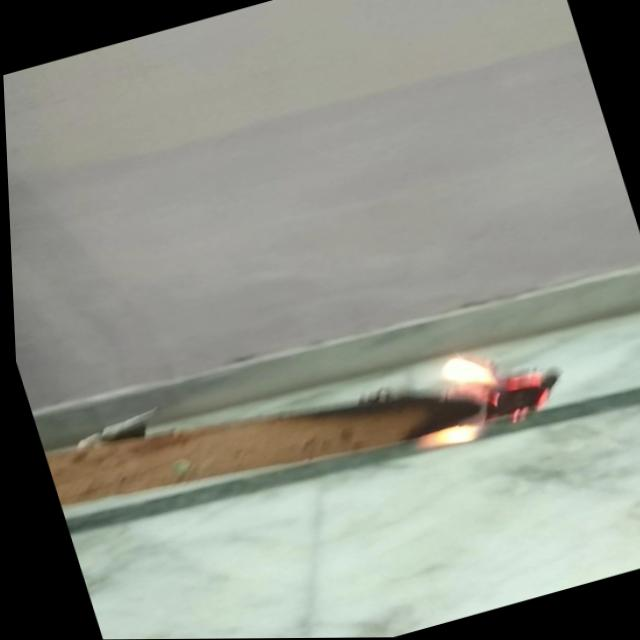fire: (379, 329, 568, 460)
